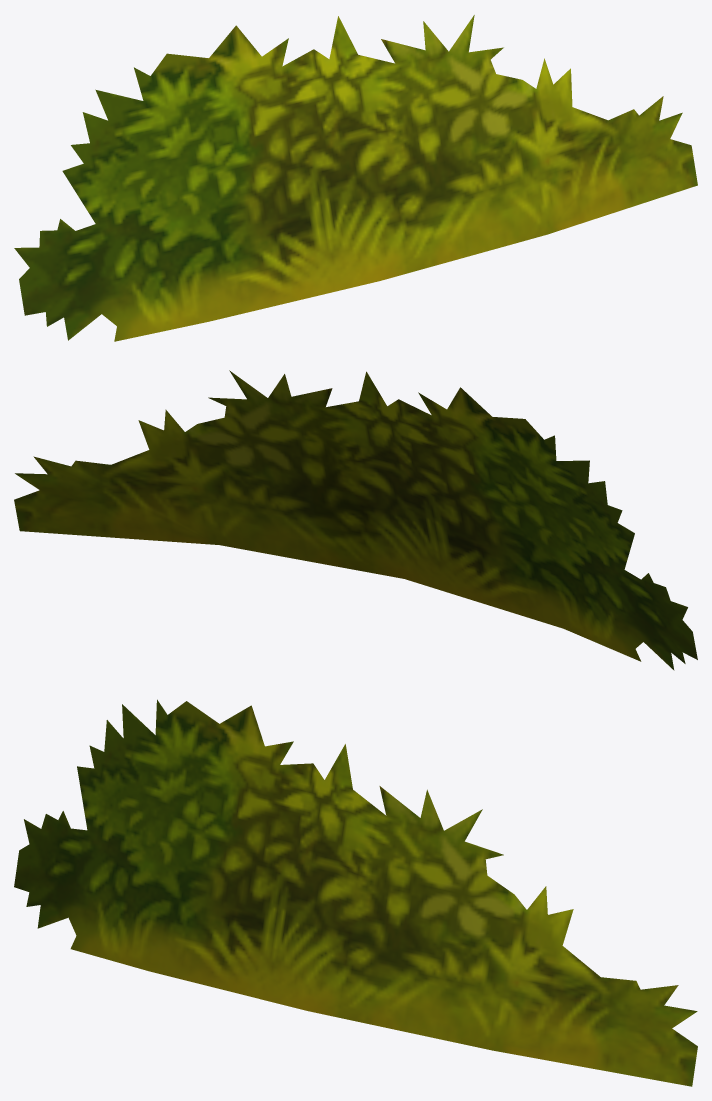
The model's file is sences_changbanpo_guanmu004.FBX.
3 renders of one model, top to bottom at view 1: azimuth 30°, elevation 25°; view 2: azimuth 150°, elevation 25°; view 3: azimuth 330°, elevation 25°, orthographic.
Parts seen in each view (by area): view 1: sences_changbanpo_guanmu004; view 2: sences_changbanpo_guanmu004; view 3: sences_changbanpo_guanmu004.
Boxes of the visible parts, left/top/right/bottom form: sences_changbanpo_guanmu004: left=14, top=15, right=697, bottom=341; sences_changbanpo_guanmu004: left=14, top=370, right=697, bottom=670; sences_changbanpo_guanmu004: left=14, top=699, right=697, bottom=1086.
Size of the model in its own units: 4.89 by 0.6278 by 1.81.
